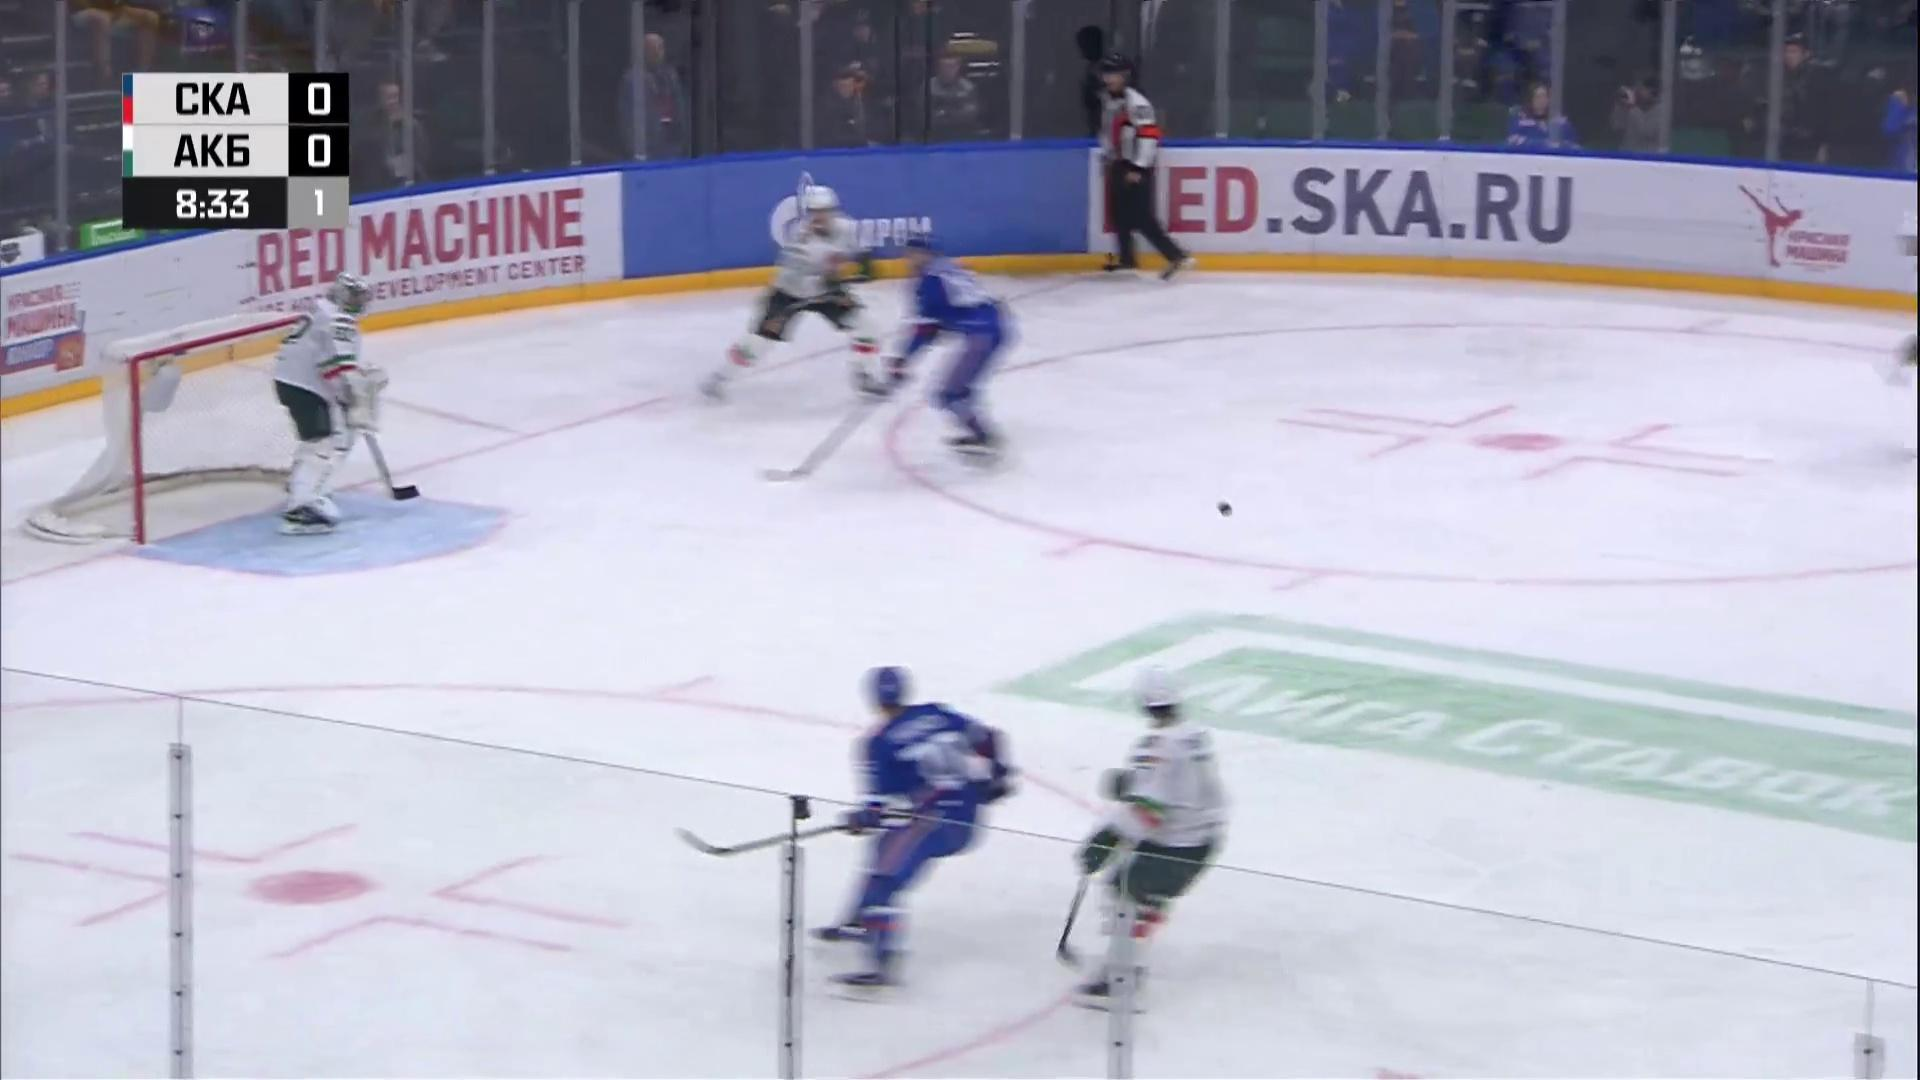ball: (1217, 501, 1232, 516)
